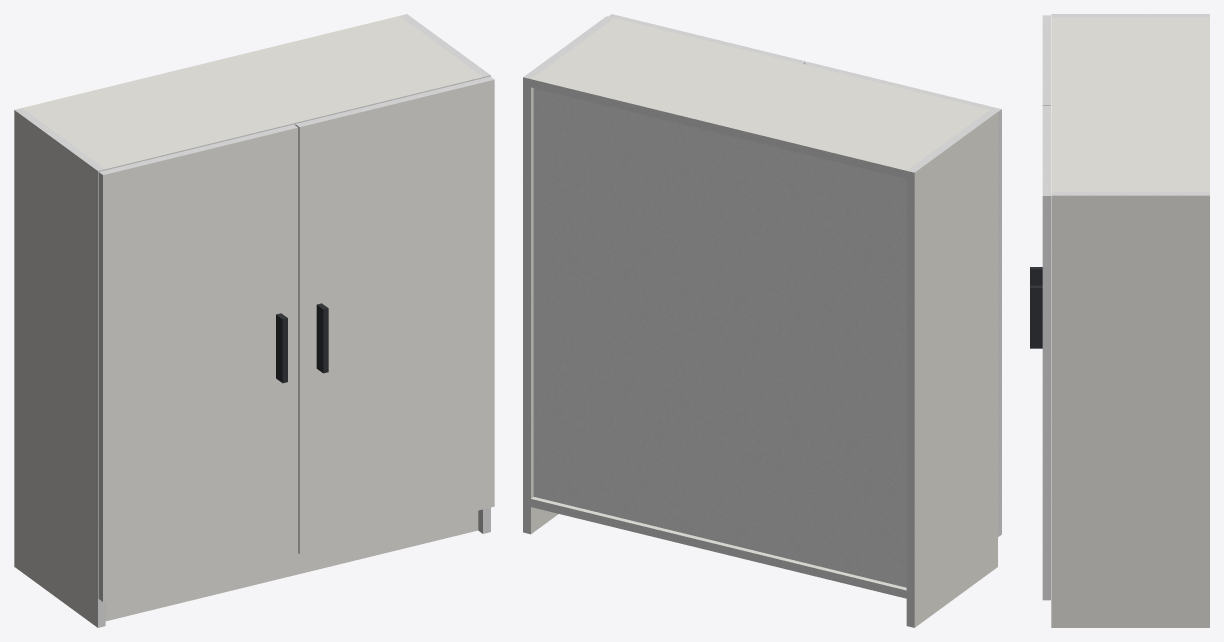
The model's file is LIT-SHO-std.glb.
3 renders of one model, left to right at view 1: azimuth 30°, elevation 25°; view 2: azimuth 150°, elevation 25°; view 3: azimuth 270°, elevation 25°, orthographic. The views are drawn at different scales.
Parts seen in each view (by area): view 1: door-r:pbr, door-l:pbr, side-l:pbr, top:pbr, plinth:pbr, door-l:sheet:eyJtIjoibWRmIiwic2lkZSI6ImVkZ2UtbG9uZyIsInNlZWQ, pull, door-l:sheet:eyJtIjoibWRmIiwic2lkZSI6ImVkZ2UtZW5kIiwic2VlZCI, door-r:sheet:eyJtIjoibWRmIiwic2lkZSI6ImVkZ2UtZW5kIiwic2VlZCI, door-r:sheet:eyJtIjoibWRmIiwic2lkZSI6ImVkZ2UtbG9uZyIsInNlZWQ, side-l:sheet:eyJtIjoibWRmIiwic2lkZSI6ImVkZ2UtZW5kIiwic2VlZCI, side-r:sheet:eyJtIjoibWRmIiwic2lkZSI6ImVkZ2UtZW5kIiwic2VlZCI (+2 smaller); view 2: back:sheet:eyJtIjoibWRmIiwic2lkZSI6ImZhY2UiLCJzZWVkIjoxLCJ0a, side-l:pbr, top:pbr, side-l:sheet:eyJtIjoibWRmIiwic2lkZSI6ImVkZ2UtbG9uZyIsInNlZWQ, side-r:sheet:eyJtIjoibWRmIiwic2lkZSI6ImVkZ2UtbG9uZyIsInNlZWQ, top:sheet:eyJtIjoibWRmIiwic2lkZSI6ImVkZ2UtbG9uZyIsInNlZWQiOj, bottom:sheet:eyJtIjoibWRmIiwic2lkZSI6ImVkZ2UtbG9uZyIsInNlZWQ, door-l:sheet:eyJtIjoibWRmIiwic2lkZSI6ImVkZ2UtbG9uZyIsInNlZWQ, side-r:pbr, bottom:pbr, door-l:sheet:eyJtIjoibWRmIiwic2lkZSI6ImVkZ2UtZW5kIiwic2VlZCI, door-r:sheet:eyJtIjoibWRmIiwic2lkZSI6ImVkZ2UtZW5kIiwic2VlZCI (+2 smaller); view 3: side-r:pbr, top:pbr, door-r:sheet:eyJtIjoibWRmIiwic2lkZSI6ImVkZ2UtbG9uZyIsInNlZWQ, pull, door-l:sheet:eyJtIjoibWRmIiwic2lkZSI6ImVkZ2UtZW5kIiwic2VlZCI, door-r:sheet:eyJtIjoibWRmIiwic2lkZSI6ImVkZ2UtZW5kIiwic2VlZCI, side-l:sheet:eyJtIjoibWRmIiwic2lkZSI6ImVkZ2UtZW5kIiwic2VlZCI, side-r:sheet:eyJtIjoibWRmIiwic2lkZSI6ImVkZ2UtZW5kIiwic2VlZCI.
Boxes of the visible parts, box(x1,y1,x2,y2) form: door-r:pbr: box(299, 79, 494, 553); door-l:pbr: box(103, 127, 298, 601); side-l:pbr: box(14, 110, 97, 627); top:pbr: box(22, 16, 482, 168); plinth:pbr: box(105, 510, 478, 621); door-l:sheet:eyJtIjoibWRmIiwic2lkZSI6ImVkZ2UtbG9uZyIsInNlZWQ: box(98, 172, 102, 601); pull: box(276, 303, 328, 383); door-l:sheet:eyJtIjoibWRmIiwic2lkZSI6ImVkZ2UtZW5kIiwic2VlZCI: box(99, 124, 297, 174); door-r:sheet:eyJtIjoibWRmIiwic2lkZSI6ImVkZ2UtZW5kIiwic2VlZCI: box(295, 76, 494, 127); door-r:sheet:eyJtIjoibWRmIiwic2lkZSI6ImVkZ2UtbG9uZyIsInNlZWQ: box(295, 124, 299, 553); side-l:sheet:eyJtIjoibWRmIiwic2lkZSI6ImVkZ2UtZW5kIiwic2VlZCI: box(14, 108, 105, 170); side-r:sheet:eyJtIjoibWRmIiwic2lkZSI6ImVkZ2UtZW5kIiwic2VlZCI: box(400, 14, 490, 76); back:sheet:eyJtIjoibWRmIiwic2lkZSI6ImZhY2UiLCJzZWVkIjoxLCJ0a: box(533, 88, 906, 587); side-l:pbr: box(914, 112, 997, 627); top:pbr: box(531, 18, 989, 170); side-l:sheet:eyJtIjoibWRmIiwic2lkZSI6ImVkZ2UtbG9uZyIsInNlZWQ: box(906, 171, 914, 627); side-r:sheet:eyJtIjoibWRmIiwic2lkZSI6ImVkZ2UtbG9uZyIsInNlZWQ: box(523, 77, 530, 534); top:sheet:eyJtIjoibWRmIiwic2lkZSI6ImVkZ2UtbG9uZyIsInNlZWQiOj: box(531, 79, 906, 178); bottom:sheet:eyJtIjoibWRmIiwic2lkZSI6ImVkZ2UtbG9uZyIsInNlZWQ: box(531, 499, 906, 598); door-l:sheet:eyJtIjoibWRmIiwic2lkZSI6ImVkZ2UtbG9uZyIsInNlZWQ: box(998, 109, 1001, 536); side-r:pbr: box(531, 87, 558, 533); bottom:pbr: box(531, 497, 906, 590); door-l:sheet:eyJtIjoibWRmIiwic2lkZSI6ImVkZ2UtZW5kIiwic2VlZCI: box(804, 62, 1001, 111); door-r:sheet:eyJtIjoibWRmIiwic2lkZSI6ImVkZ2UtZW5kIiwic2VlZCI: box(608, 14, 805, 63); side-r:pbr: box(1051, 195, 1209, 627); top:pbr: box(1051, 17, 1209, 191); door-r:sheet:eyJtIjoibWRmIiwic2lkZSI6ImVkZ2UtbG9uZyIsInNlZWQ: box(1042, 196, 1050, 600); pull: box(1030, 267, 1042, 348); door-l:sheet:eyJtIjoibWRmIiwic2lkZSI6ImVkZ2UtZW5kIiwic2VlZCI: box(1042, 15, 1050, 105); door-r:sheet:eyJtIjoibWRmIiwic2lkZSI6ImVkZ2UtZW5kIiwic2VlZCI: box(1042, 106, 1050, 195); side-l:sheet:eyJtIjoibWRmIiwic2lkZSI6ImVkZ2UtZW5kIiwic2VlZCI: box(1051, 14, 1209, 17); side-r:sheet:eyJtIjoibWRmIiwic2lkZSI6ImVkZ2UtZW5kIiwic2VlZCI: box(1051, 192, 1209, 195).
Bounding box in the file's own units: 0.9 × 1 × 0.3766.
Materials: 34 (23 with a texture image).
